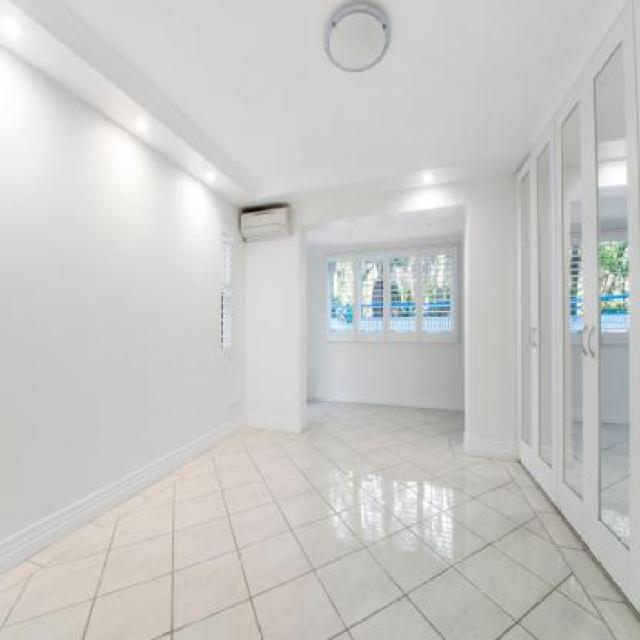Floor: (1, 399, 640, 640), (601, 424, 629, 546), (564, 422, 583, 497)
